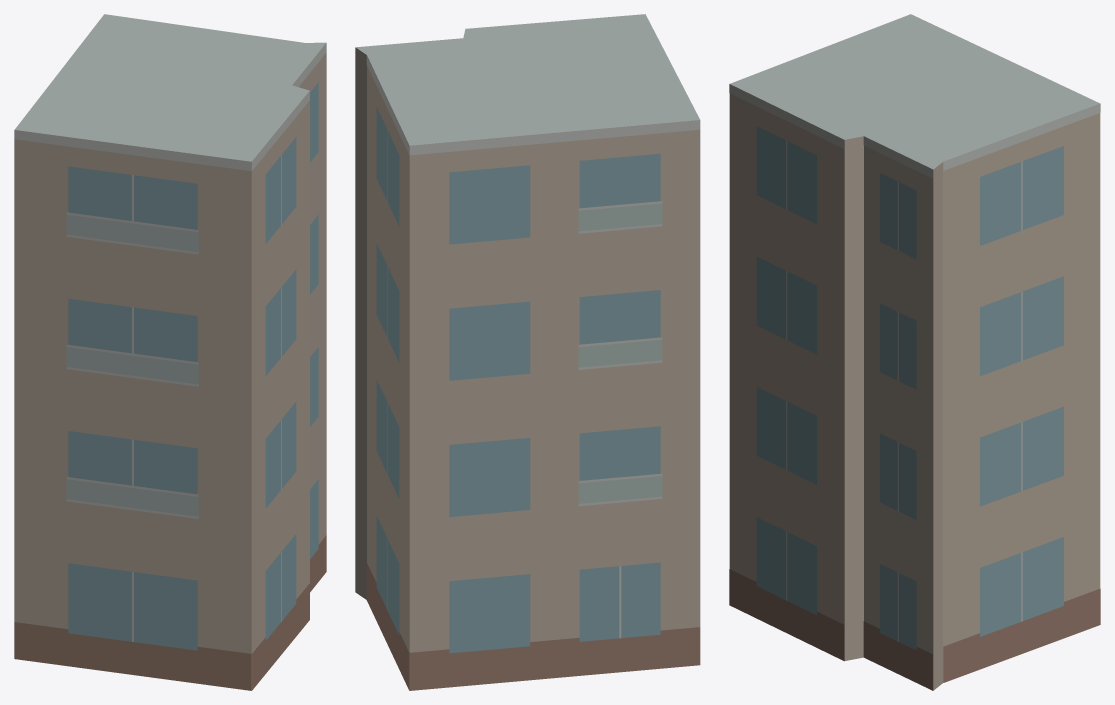
File: survey-upis-32463925.glb
3 views of the same model, side by side, from view 1: azimuth 30°, elevation 25°; view 2: azimuth 150°, elevation 25°; view 3: azimuth 270°, elevation 25° (orthographic). The views are drawn at different scales.
Visible parts, largest first — view 1: survey-upis-32463925.tmp; view 2: survey-upis-32463925.tmp; view 3: survey-upis-32463925.tmp.
Boxes of the visible parts, x1,y1,x2,y2 form: survey-upis-32463925.tmp: [14, 14, 326, 690]; survey-upis-32463925.tmp: [355, 14, 700, 690]; survey-upis-32463925.tmp: [729, 14, 1100, 690].
Size of the model in its own units: 8.77 by 13.7 by 8.84.
